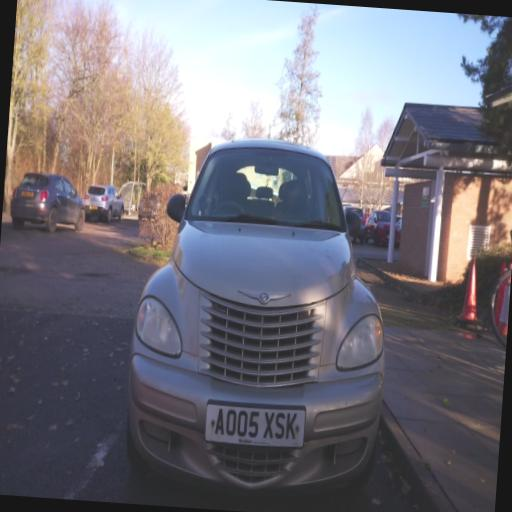numberplates: (205, 404, 305, 448), (22, 192, 33, 197), (90, 206, 97, 210)
